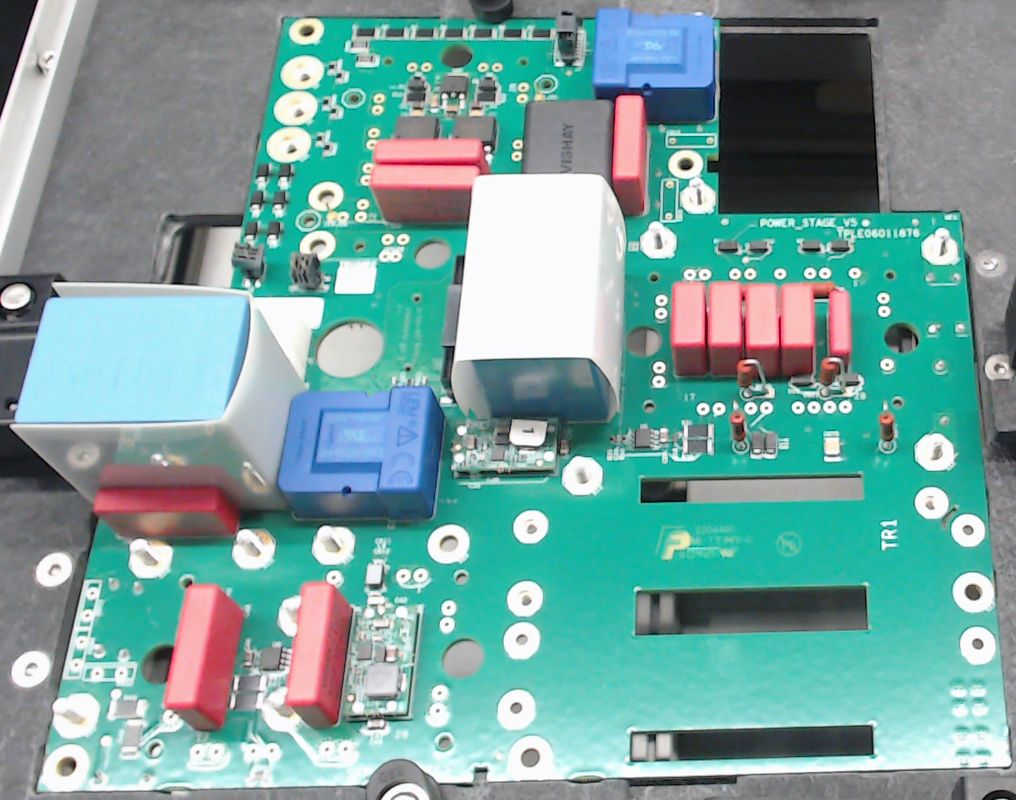comp1: (277, 384, 445, 521), (592, 8, 717, 123)
comp2: (160, 583, 242, 731), (285, 581, 353, 728), (91, 488, 239, 537), (370, 163, 479, 222), (610, 95, 647, 214), (668, 279, 708, 380), (778, 279, 817, 378), (741, 280, 778, 380), (706, 279, 743, 378), (373, 137, 488, 166), (829, 288, 853, 370)
comp3: (521, 99, 616, 176)
comp4: (10, 278, 310, 512), (453, 172, 629, 418)
